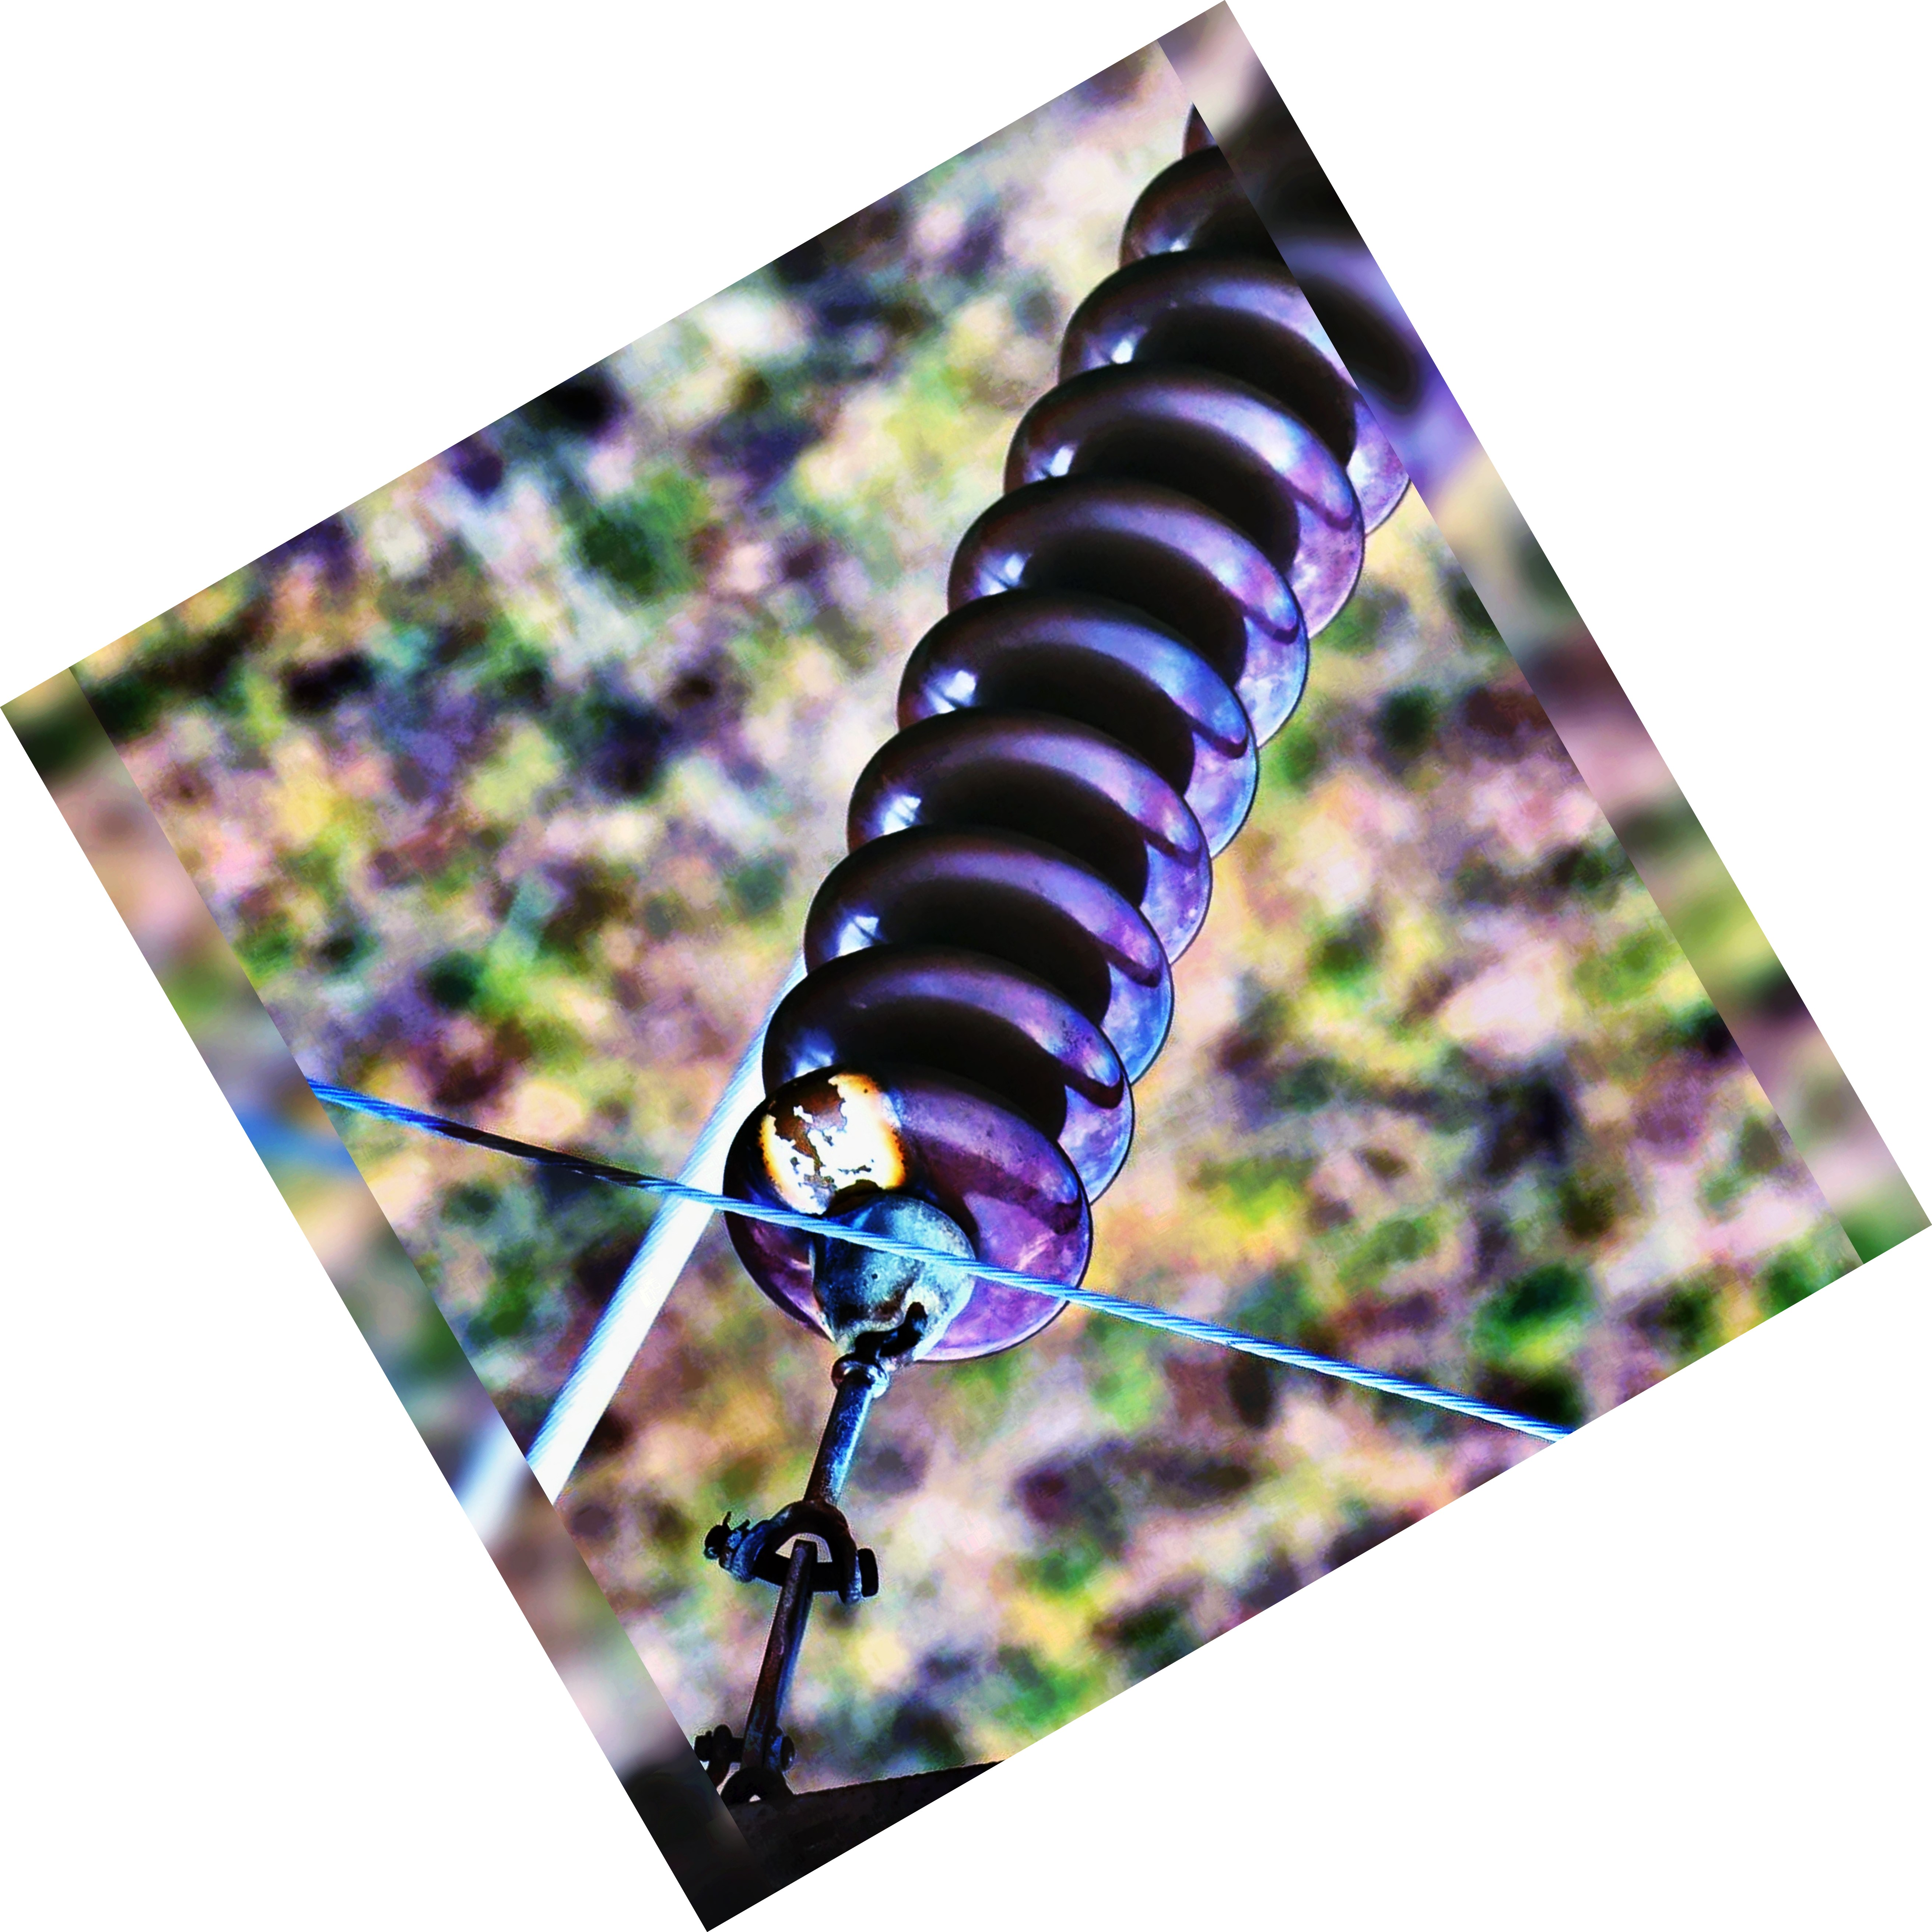Insulator flashover: (701, 1051, 1104, 1373)
